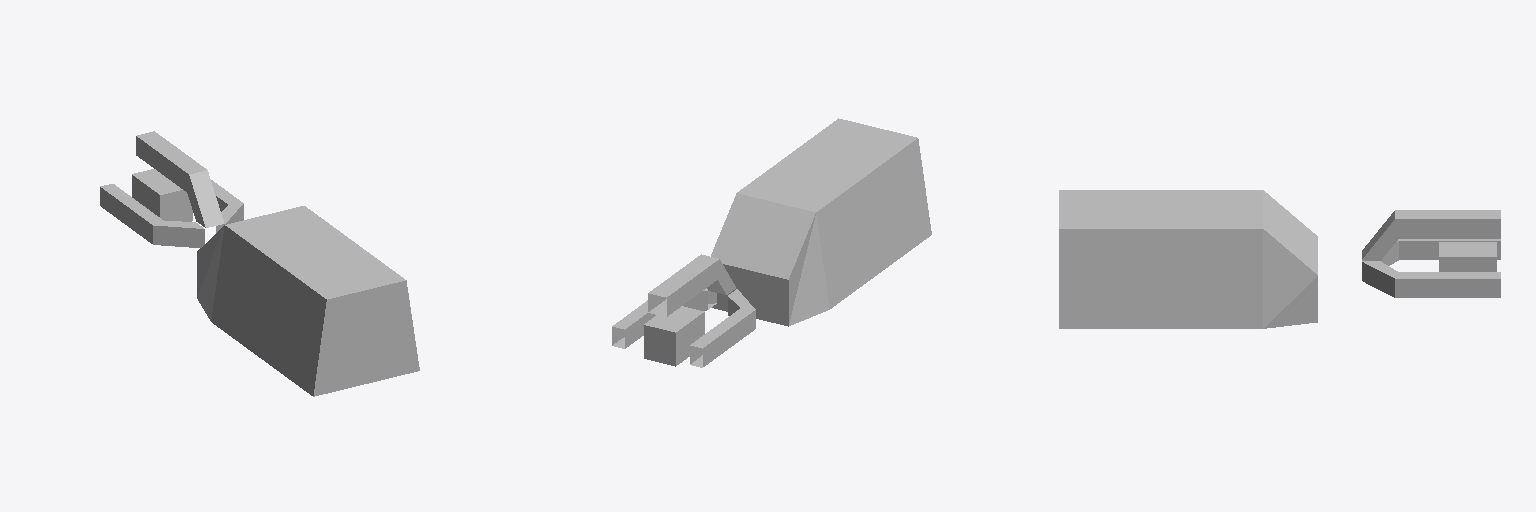
The model's file is wep04.obj.
3 renders of one model, left to right at view 1: azimuth 30°, elevation 25°; view 2: azimuth 150°, elevation 25°; view 3: azimuth 270°, elevation 25°, orthographic.
Visible parts, largest first — view 1: frm-wepbas1, frm-wepbar5, frm-wepbar4, frm-wepbar2, frm-wepbar3; view 2: frm-wepbas1, frm-wepbar5, frm-wepbar2, frm-wepbar4, frm-wepbar3; view 3: frm-wepbas1, frm-wepbar5, frm-wepbar3, frm-wepbar2, frm-wepbar4.
Boxes of the visible parts, x1=… form: frm-wepbas1: x1=197, y1=206, x2=419, y2=396; frm-wepbar5: x1=136, y1=131, x2=223, y2=227; frm-wepbar4: x1=100, y1=184, x2=204, y2=247; frm-wepbar2: x1=132, y1=169, x2=192, y2=221; frm-wepbar3: x1=211, y1=180, x2=243, y2=232; frm-wepbas1: x1=711, y1=118, x2=931, y2=326; frm-wepbar5: x1=648, y1=254, x2=735, y2=316; frm-wepbar2: x1=644, y1=306, x2=704, y2=366; frm-wepbar4: x1=690, y1=289, x2=755, y2=367; frm-wepbar3: x1=612, y1=288, x2=716, y2=348; frm-wepbas1: x1=1059, y1=190, x2=1317, y2=328; frm-wepbar5: x1=1362, y1=210, x2=1500, y2=260; frm-wepbar3: x1=1362, y1=261, x2=1500, y2=297; frm-wepbar2: x1=1439, y1=242, x2=1496, y2=271; frm-wepbar4: x1=1362, y1=239, x2=1500, y2=265.
Bounding box in the file's own units: 0.1567 × 0.1317 × 0.563.